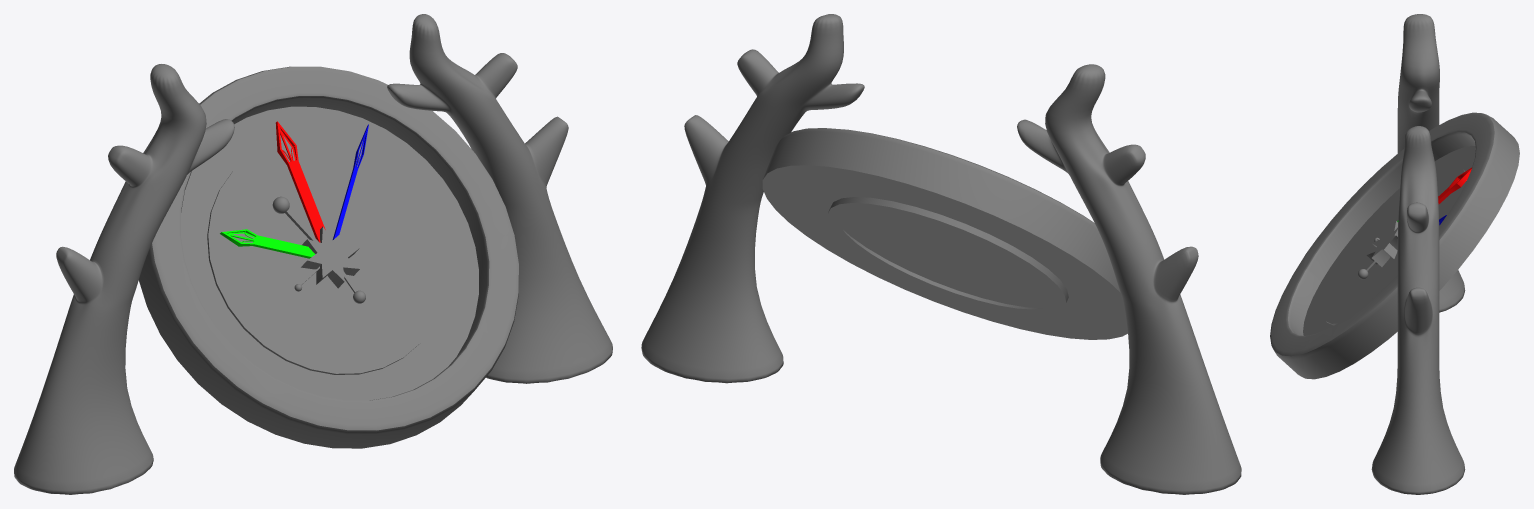
File: M_Clock.fbx
3 renders of one model, left to right at view 1: azimuth 30°, elevation 25°; view 2: azimuth 150°, elevation 25°; view 3: azimuth 270°, elevation 25°, orthographic. The views are drawn at different scales.
Visible parts, largest first — view 1: disc, twigs, handle, decorate; view 2: twigs, disc; view 3: disc, twigs, decorate, handle.
Boxes of the visible parts, x1,y1,x2,y2 form: disc: (139,66,518,448); twigs: (14,14,612,494); handle: (220,121,368,258); decorate: (272,196,365,303); twigs: (641,14,1241,494); disc: (762,128,1127,339); disc: (1270,112,1519,379); twigs: (1371,14,1465,494); decorate: (1358,221,1397,279); handle: (1397,167,1471,225).
Bounding box in the file's own units: 3.86 × 2.42 × 1.77.
